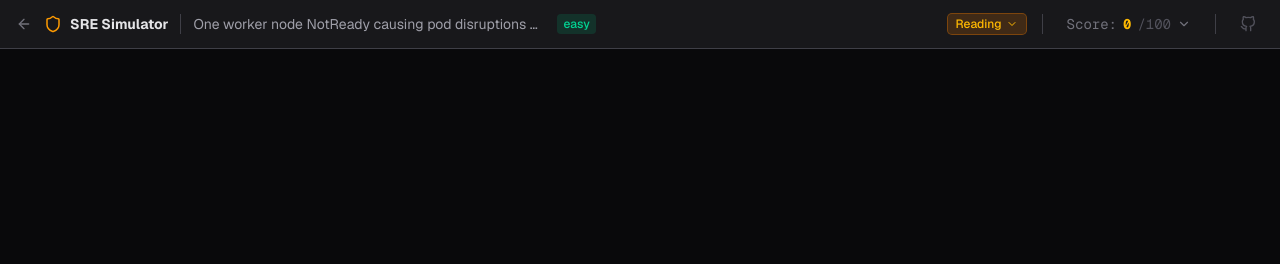
Test: Header layout › shows nickname inside the score dropdown panel
This screenshot has width=1280, height=264.
Step 1. Click the button with test id "score-toggle" → [1129, 24], box [1059,10,1199,38]
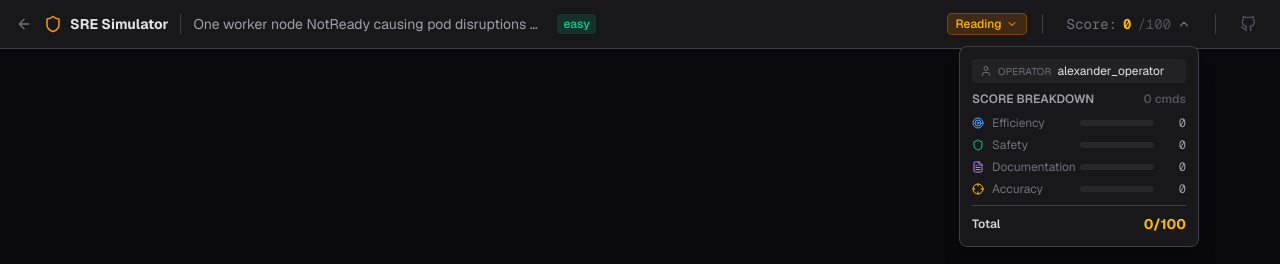
Check: the element with test id "score-panel-nickname" is shown, box [972,59,1186,83]
Check: the element with test id "score-panel-nickname" shows "alexander_operator", box [1058,63,1164,79]
